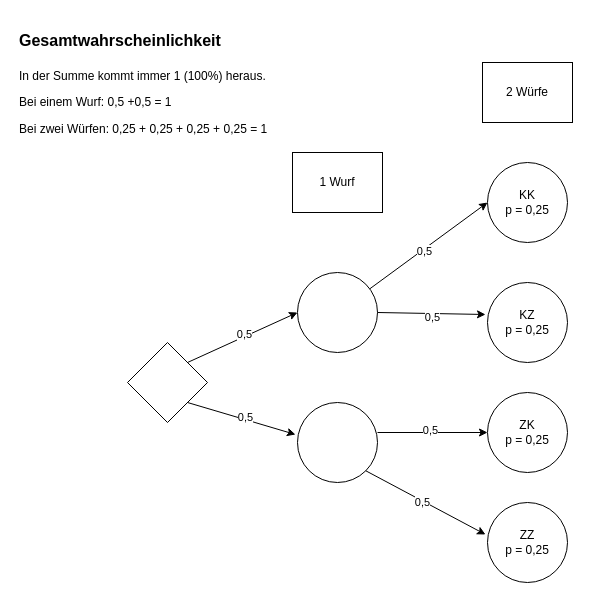
Some shapes in this 590 by 600 pixel diagram are drawn without their labels. Each missing label, with the centre of its shape:
"K p = 0,5" belongs at (337,312).
"Z p = 0,5" belongs at (337,442).
